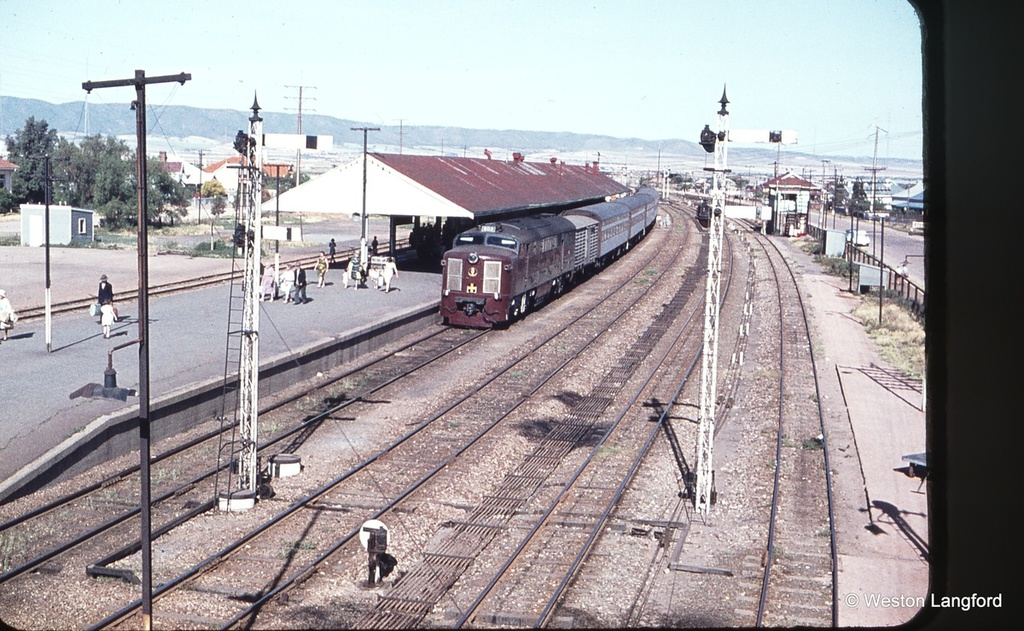train: (440, 176, 662, 330)
